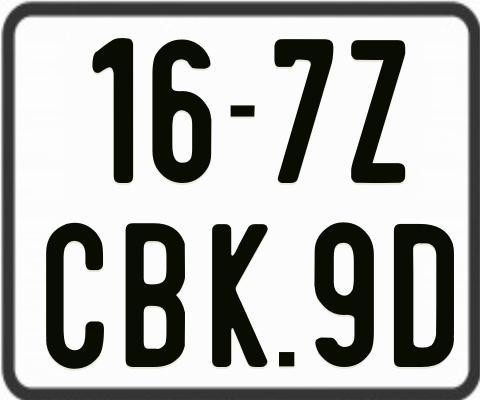1: (91, 38, 132, 183)
6: (151, 40, 211, 183)
7: (271, 36, 332, 184)
9: (313, 222, 374, 370)
B: (125, 222, 187, 369)
C: (43, 222, 107, 373)
D: (394, 221, 458, 368)
K: (209, 223, 266, 369)
Z: (348, 37, 405, 180)
